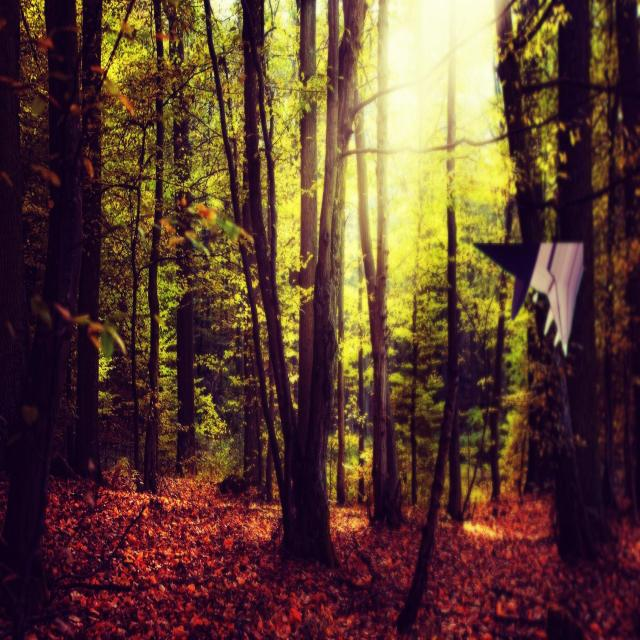airplane: (472, 239, 584, 357)
